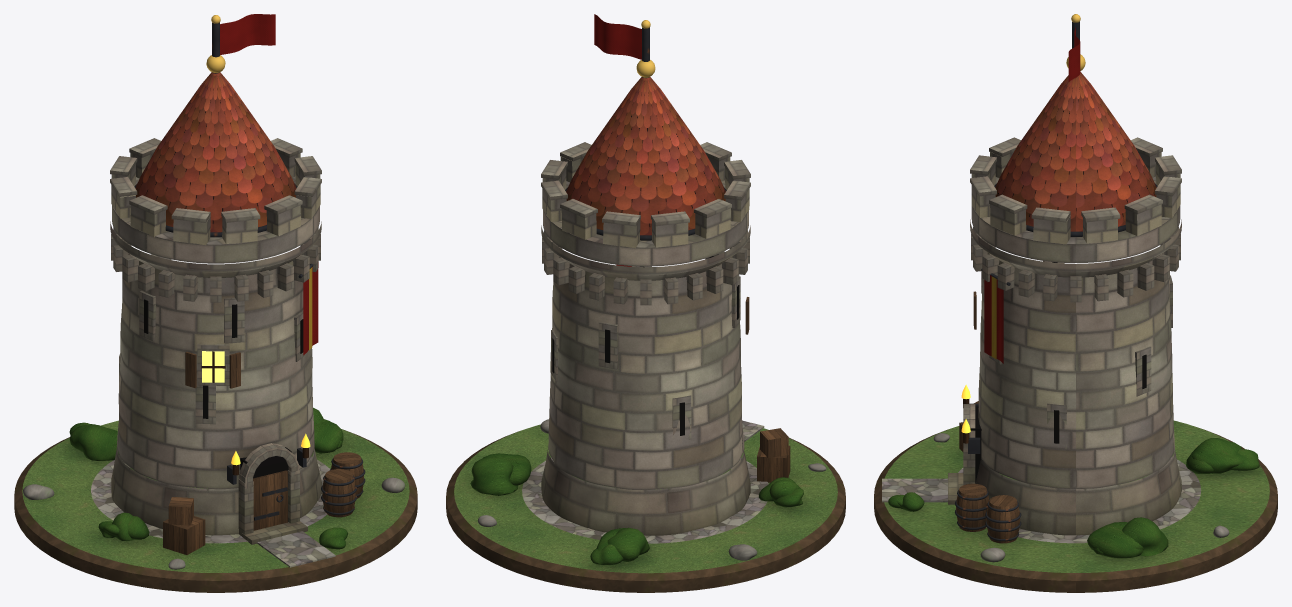
The model's file is baszta.glb.
The picture shows the model from 3 angles, left to right: view 1: azimuth 30°, elevation 25°; view 2: azimuth 150°, elevation 25°; view 3: azimuth 270°, elevation 25°; orthographic projection.
Parts seen in each view (by area): view 1: baszta; view 2: baszta; view 3: baszta.
Boxes of the visible parts, x1,y1,x2,y2 form: baszta: [14, 14, 417, 592]; baszta: [446, 14, 845, 592]; baszta: [874, 14, 1277, 592].
Size of the model in its own units: 1 by 1.35 by 1.
Materials: 17 (13 with a texture image).
